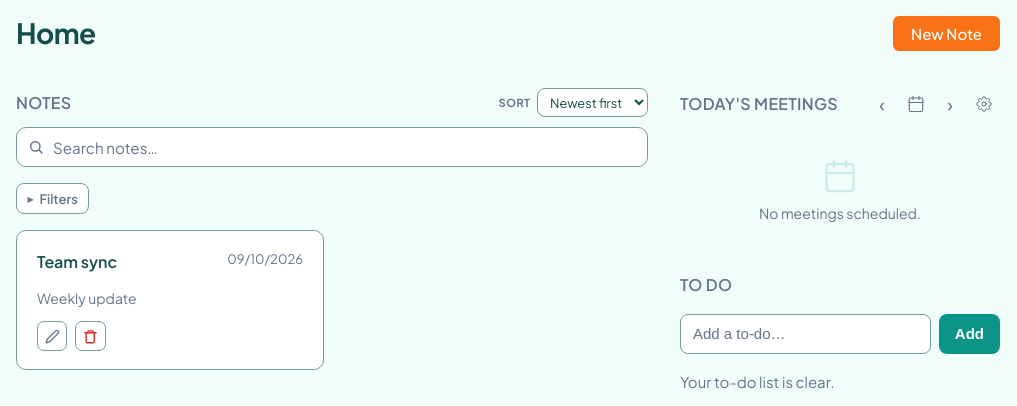
Test: NoteCard — delete affordance › clicking delete shows an inline confirmation — note not yet removed
What coordinates should you click on to do the following:
click the button named "delete \"Team sync\""
I would click on:
 (91, 336)
Its box is [75, 321, 106, 351].
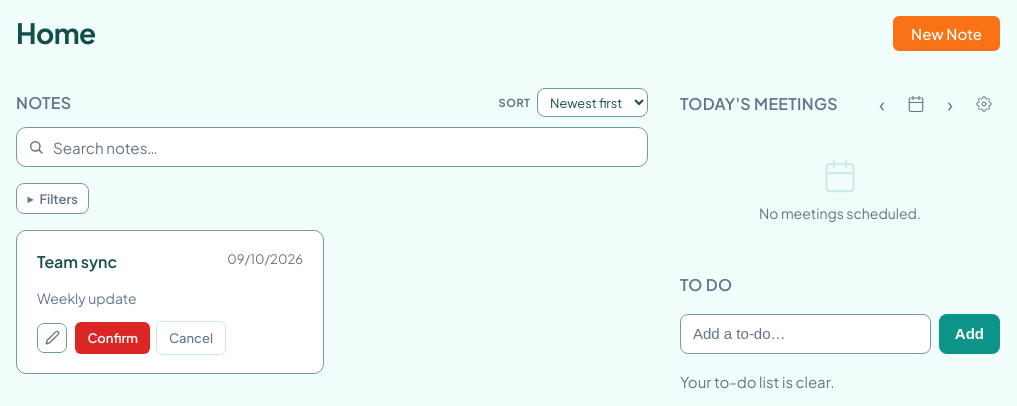
Expected: the heading "Team sync" is shown, [37, 251, 117, 272]
Expected: the button with aria-label "confirm delete" is shown, [75, 322, 150, 354]
Expected: the button "Cancel" is shown, [156, 321, 226, 355]
